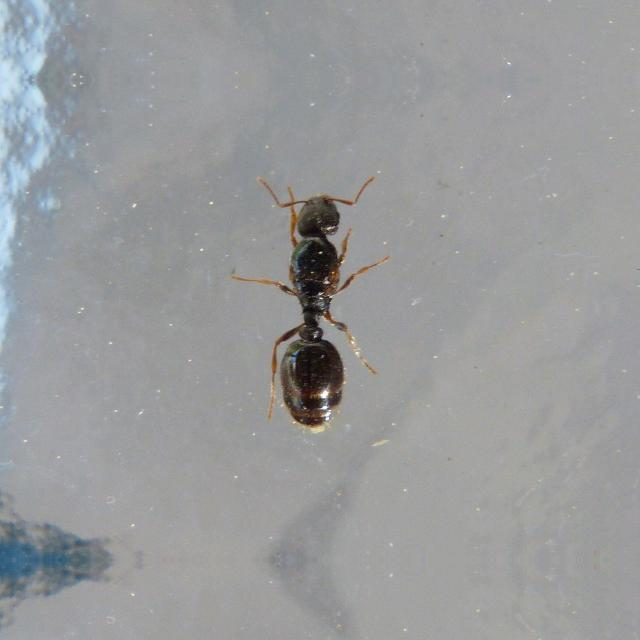Tetramorium: (235, 140, 378, 430)
